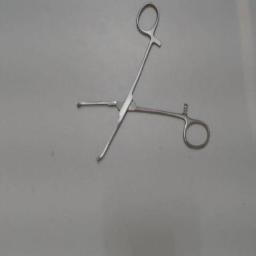Allis Tissue Forceps: (72, 0, 214, 168)
